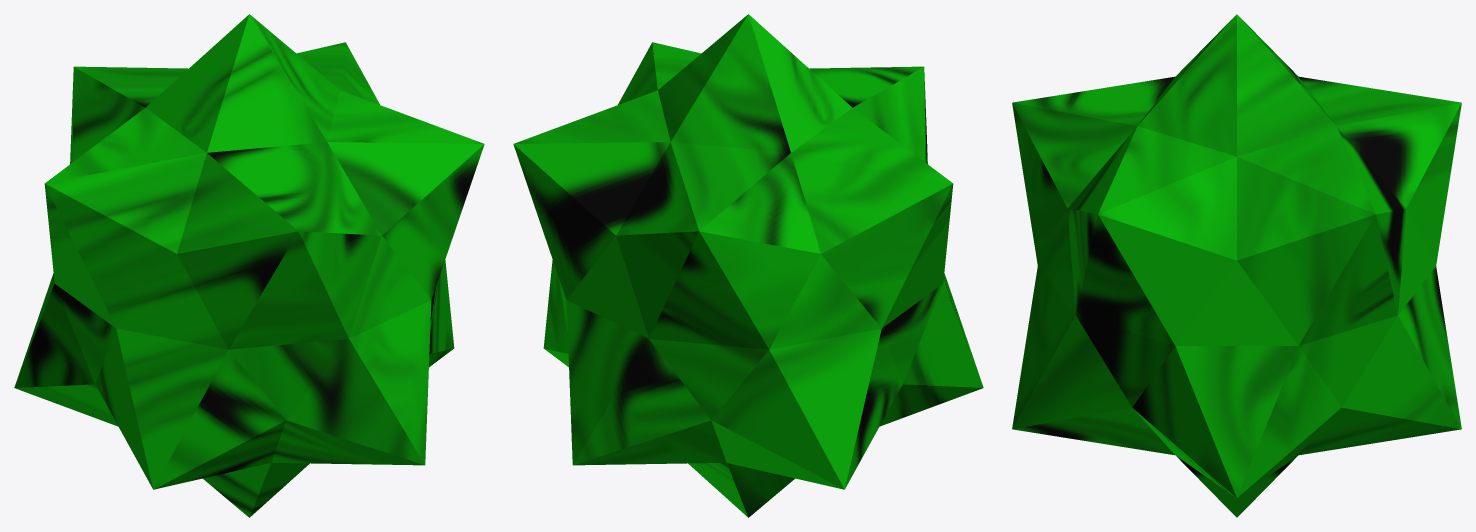
Rendered from BombItem.glb.
The picture shows the model from 3 angles, left to right: view 1: azimuth 30°, elevation 25°; view 2: azimuth 150°, elevation 25°; view 3: azimuth 270°, elevation 25°; orthographic projection.
Visible parts, largest first — view 1: Icosphere; view 2: Icosphere; view 3: Icosphere.
Part boxes in pixels (left/top/right/bottom): Icosphere: left=14, top=14, right=484, bottom=517; Icosphere: left=513, top=14, right=983, bottom=517; Icosphere: left=1012, top=14, right=1461, bottom=517.
Size of the model in its own units: 1.19 by 1.4 by 1.13.
1 material, 1 textured.
